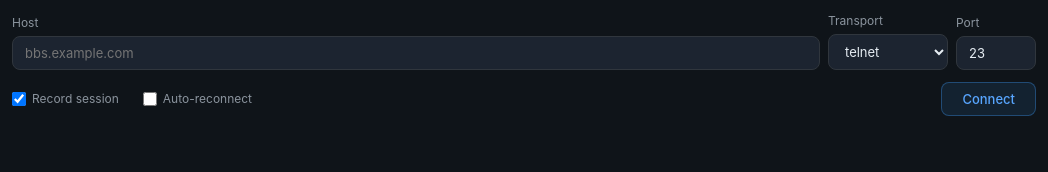
connect workflow › surfaces connection failures and re-enables submission
Type "bbs.example" into the field with placeholder "bbs.example.com" at [416, 53], box [12,36,820,70]
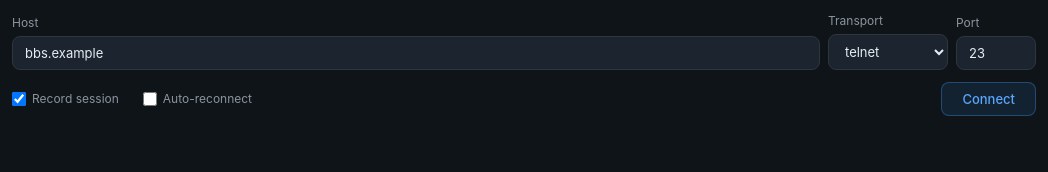
Click the button "Connect" at [989, 99], box [941,82,1036,116]
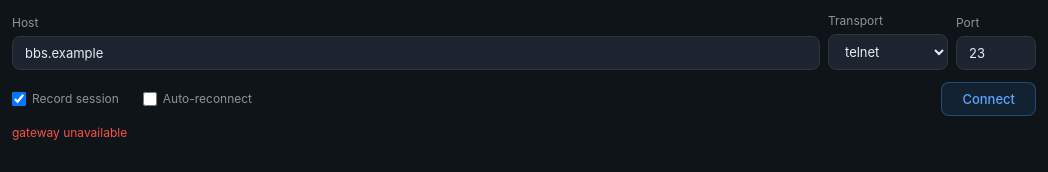
expect the text "gateway unavailable" is shown: met, box [12,125,127,140]
